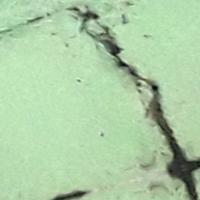crack: (70, 1, 199, 199)
